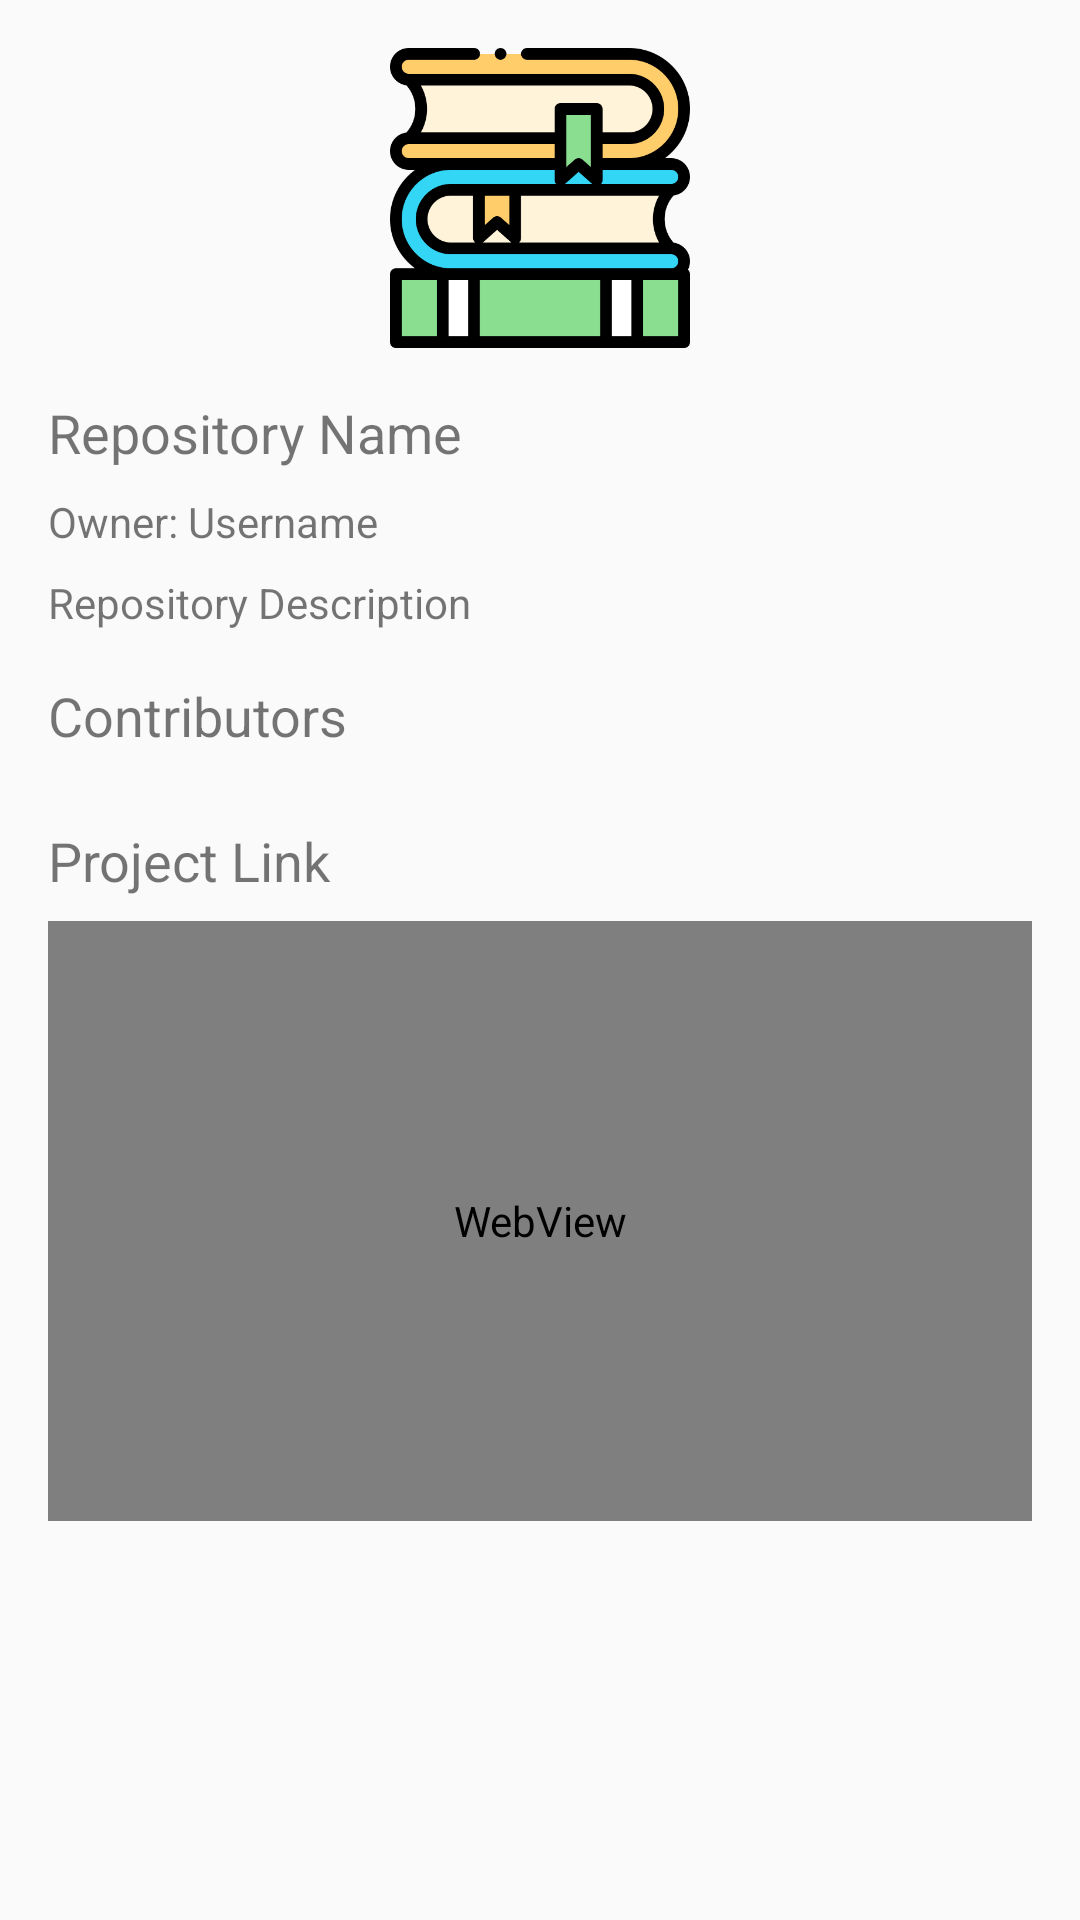

Icon bounding boxes for this 1080w x 1920h phone screenshot, format detection(x1, y1, x2, y2):
knowledge: detection(390, 48, 690, 348)
